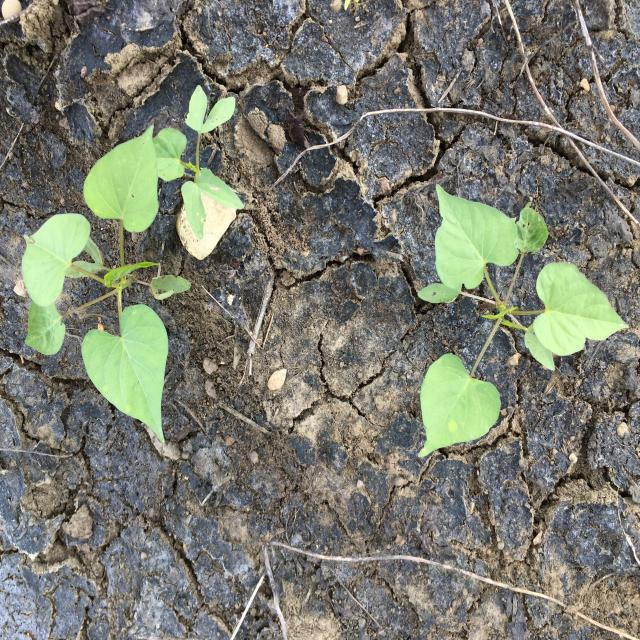MorningGlory: (418, 184, 629, 458), (22, 123, 192, 444), (152, 85, 245, 240)
